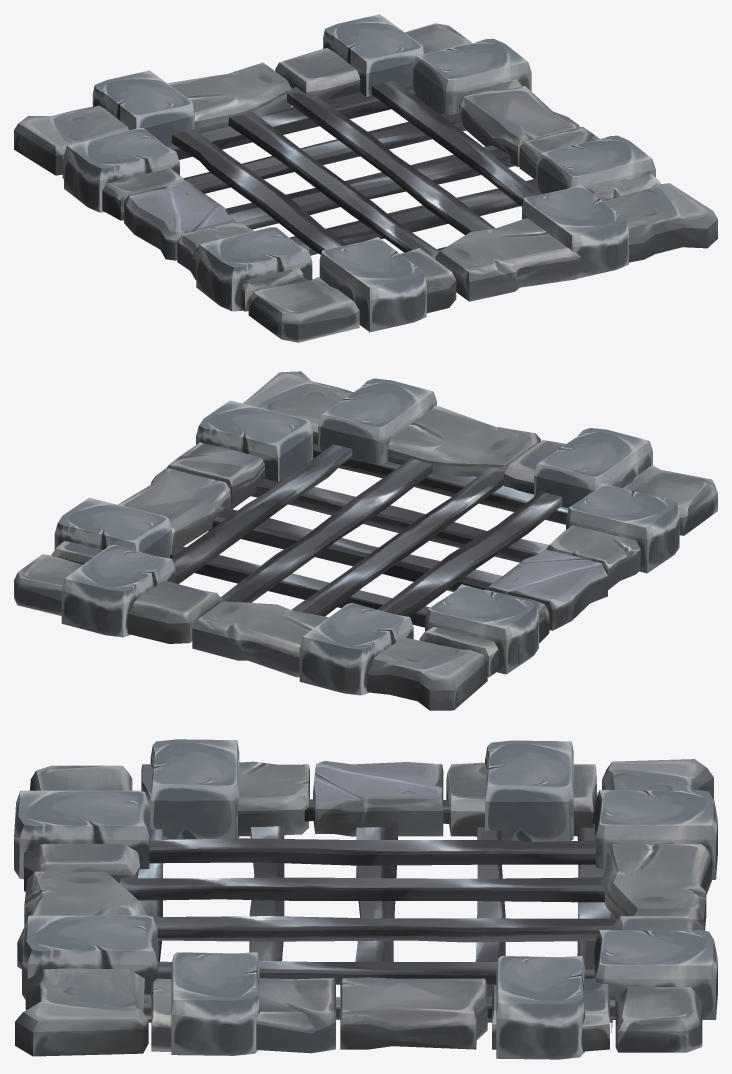
The model's file is M_JingGai.fbx.
3 views of the same model, one above another, from view 1: azimuth 30°, elevation 25°; view 2: azimuth 150°, elevation 25°; view 3: azimuth 270°, elevation 25° (orthographic). The views are drawn at different scales.
Parts seen in each view (by area): view 1: JIKO; view 2: JIKO; view 3: JIKO.
Part boxes in pixels (box(x1,y1,x2,y2)): JIKO: box(14, 14, 717, 342); JIKO: box(14, 371, 717, 710); JIKO: box(14, 739, 717, 1059).
Size of the model in its own units: 402 by 39.15 by 446.
1 material, 1 textured.
